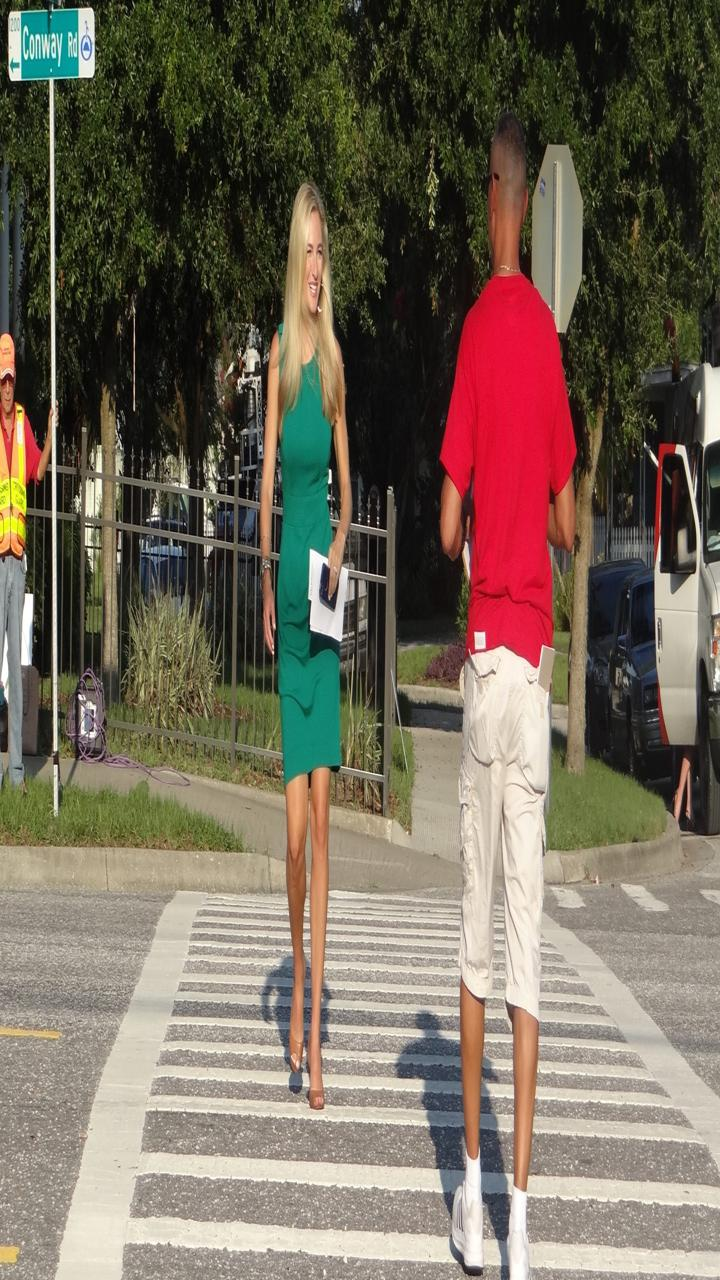pedestrian: (423, 104, 572, 1280), (215, 145, 347, 1113), (1, 308, 53, 787)
